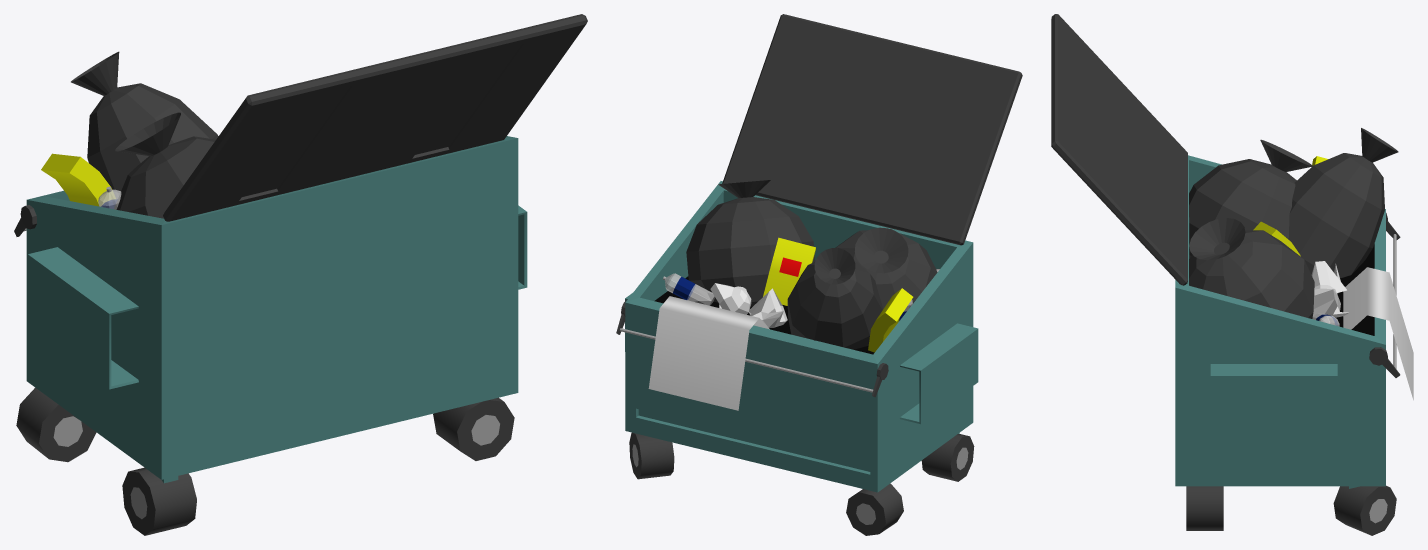
Rendered from Trash_dumpster 2.fbx.
3 views of the same model, side by side, from view 1: azimuth 30°, elevation 25°; view 2: azimuth 150°, elevation 25°; view 3: azimuth 270°, elevation 25° (orthographic). The views are drawn at different scales.
Visible parts, largest first — view 1: polySurface19; view 2: polySurface19; view 3: polySurface19.
Boxes of the visible parts, x1,y1,x2,y2 form: polySurface19: (14,14,587,535); polySurface19: (616,14,1022,535); polySurface19: (1051,14,1413,535).
Bounding box in the file's own units: 291 × 334 × 279.
